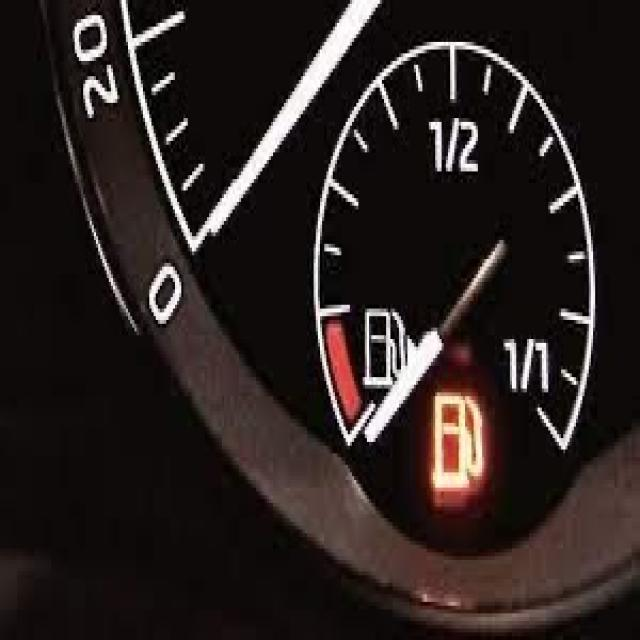kontrolka: (426, 381, 492, 525)
